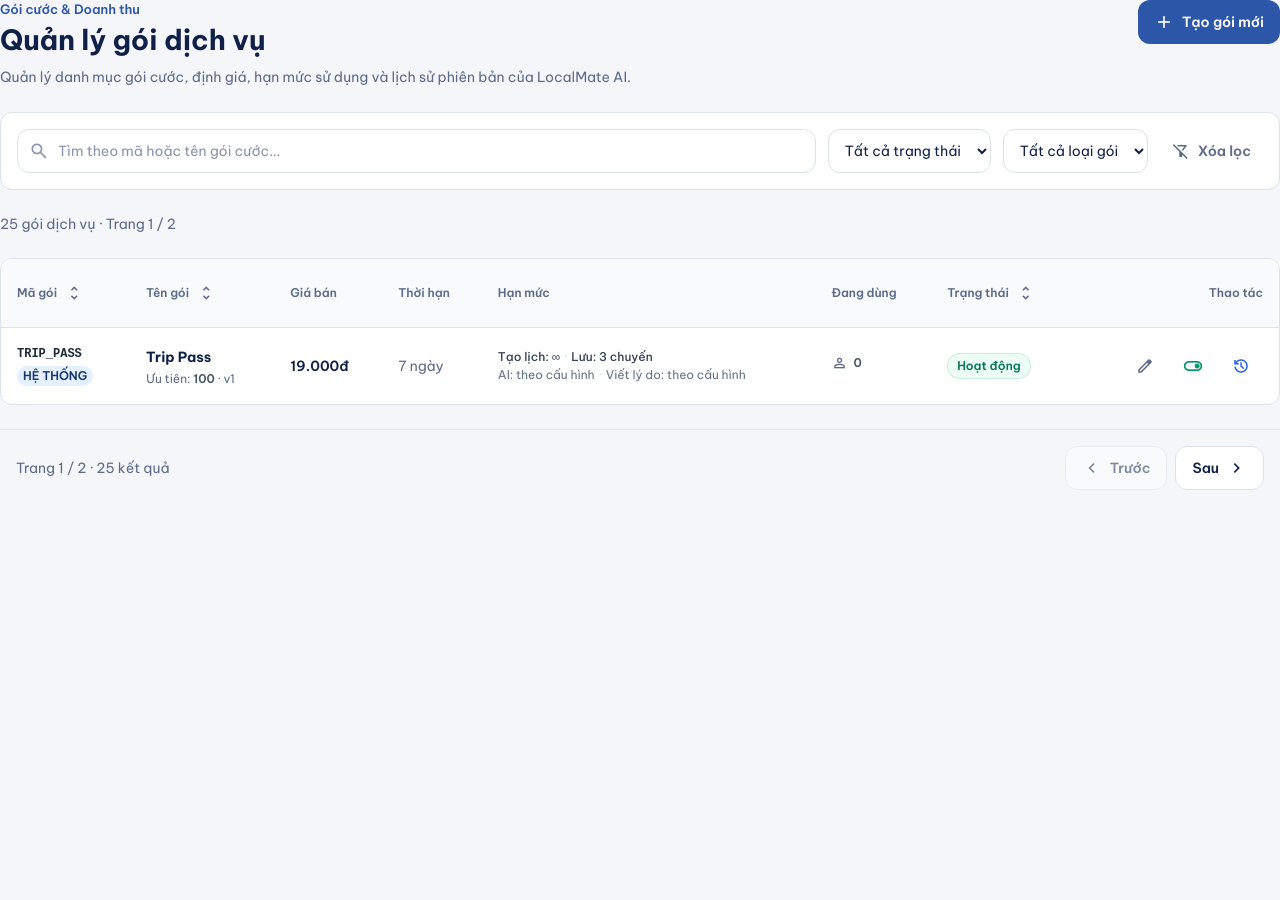
Test: A2 existing consumer compatibility › Plan confirmation opens and cancels without a mutation
Check: the text "Trip Pass" is shown, box [146,348,211,366]
Step 1. Click the button named "Tạm dừng gói" → (1193, 366), box [1171,344,1215,388]
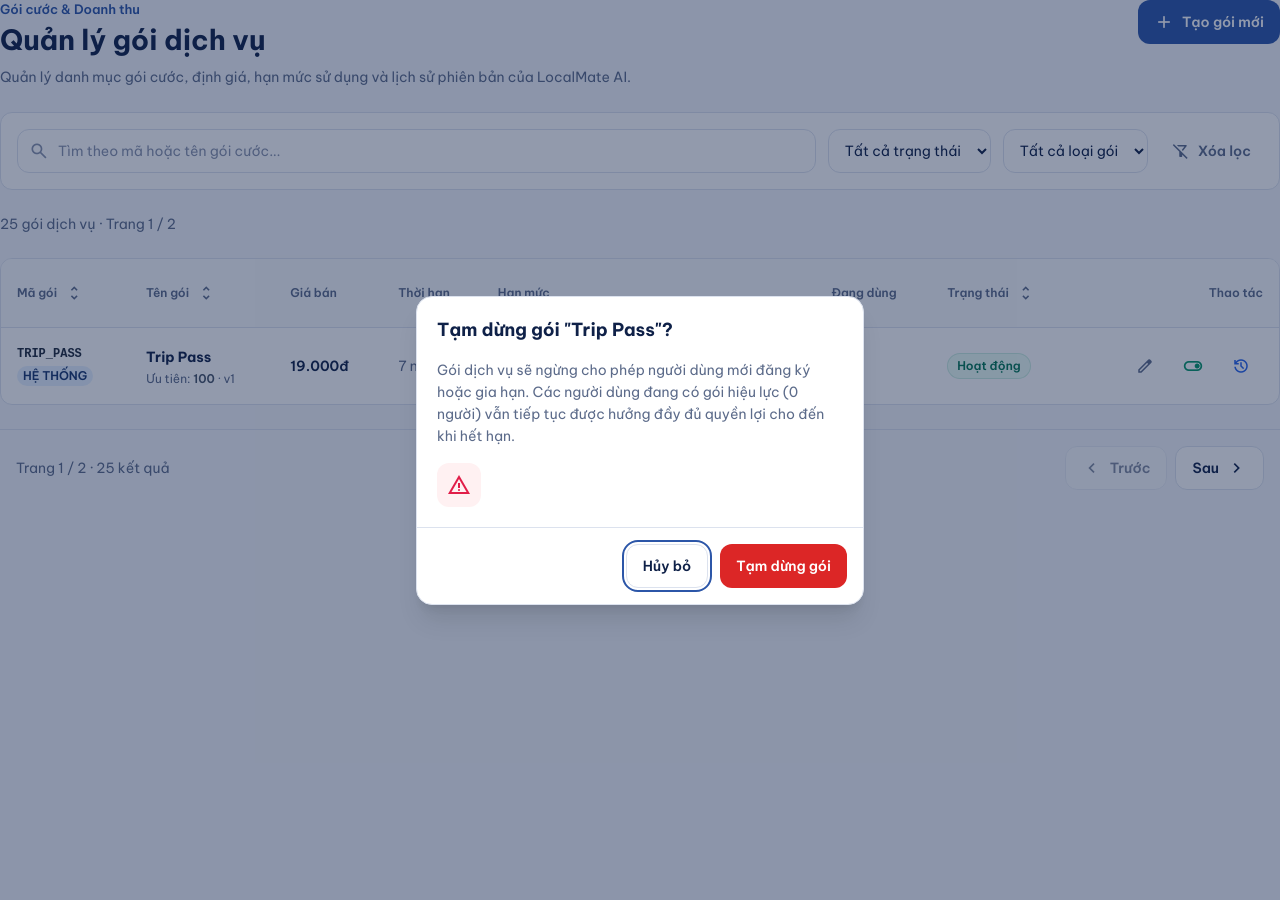
Step 2. Press Escape in the dialog, box [416,296,864,604]
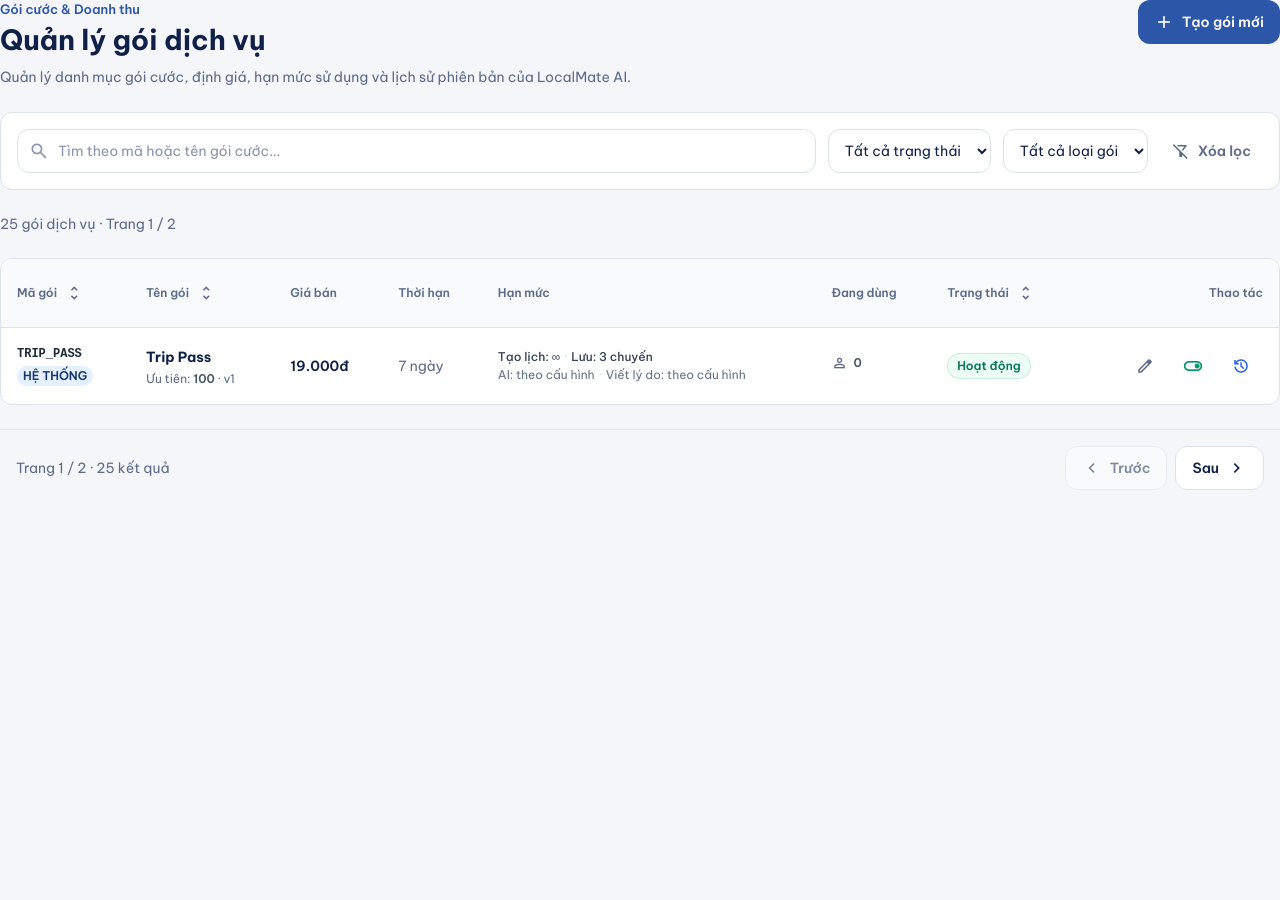
Check: the dialog is gone
